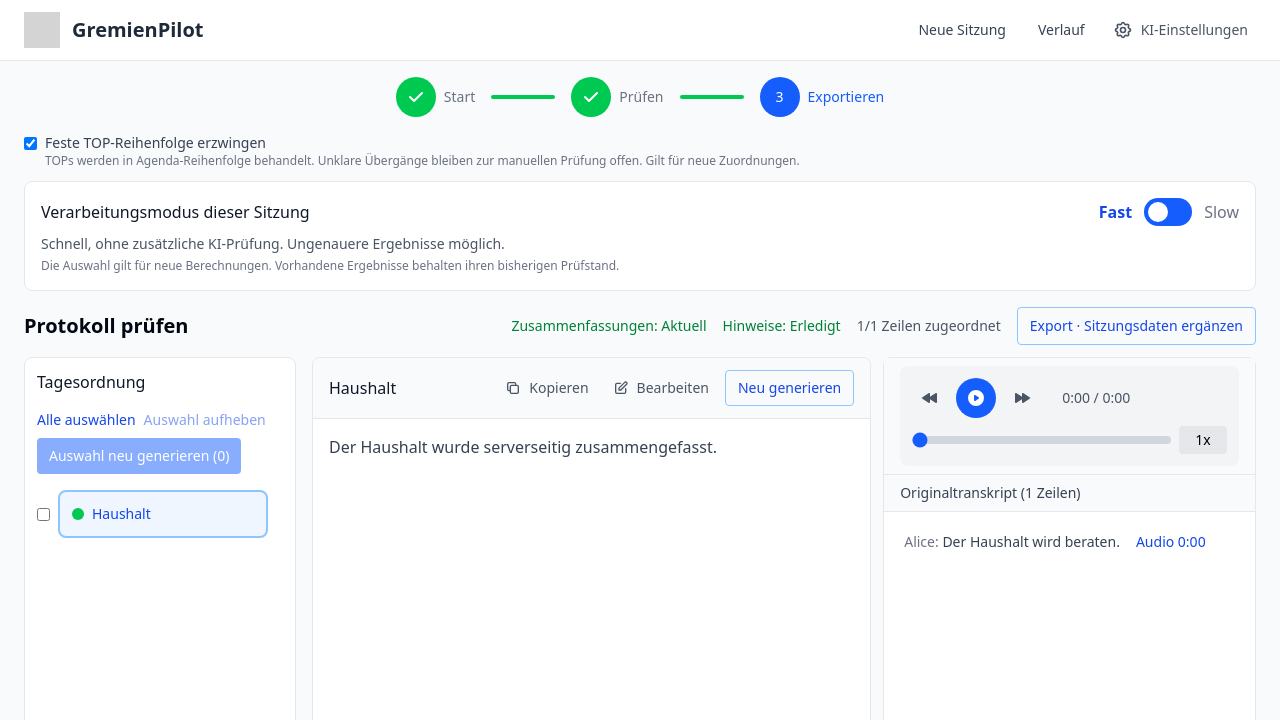
Test: App pipeline flow › restores the saved mode and resets new sessions to Slow
The width and height of the screenshot is (1280, 720).
Check: the switch named "Slow-Modus" is not checked, box [1144,198,1192,226]
Check: the checkbox labelled "Feste TOP-Reihenfolge erzwingen" is checked, box [24,137,37,150]
Click the button "Neue Sitzung".
click(962, 30)  # box [906,12,1018,48]
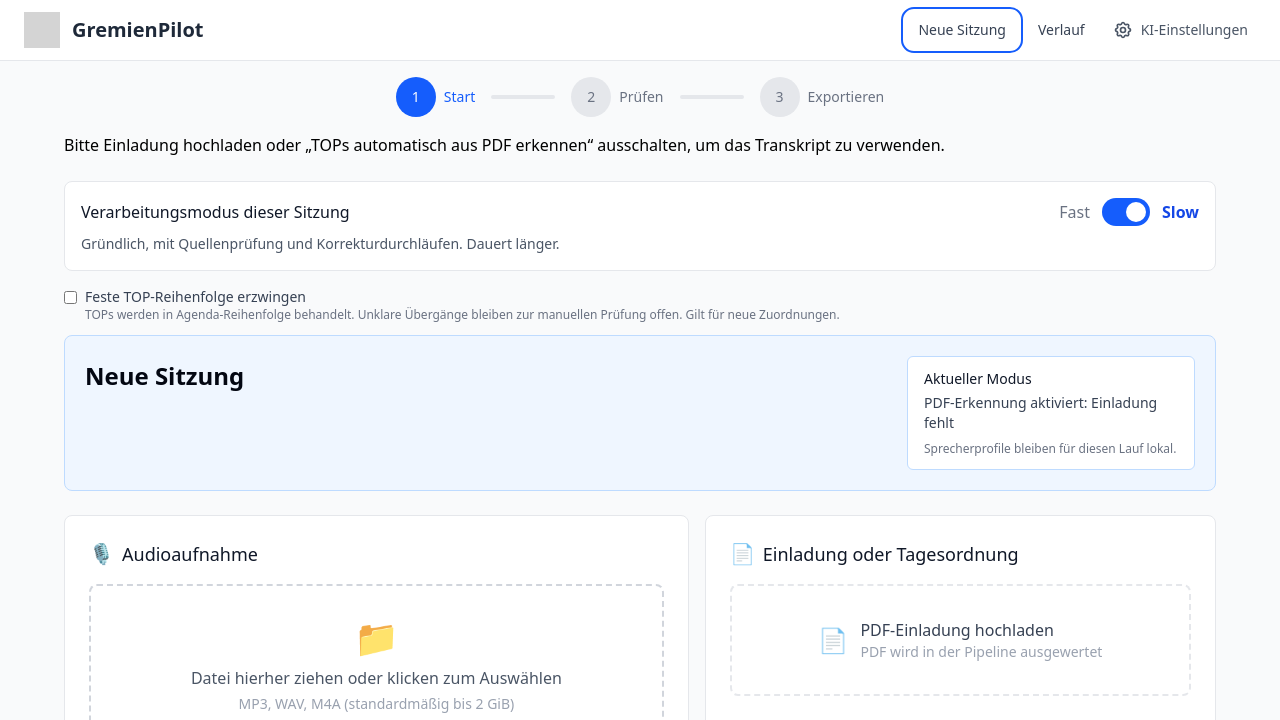
Check: the switch named "Slow-Modus" is checked, box [1102,198,1150,226]
Check: the checkbox labelled "Feste TOP-Reihenfolge erzwingen" is not checked, box [64,291,77,304]
